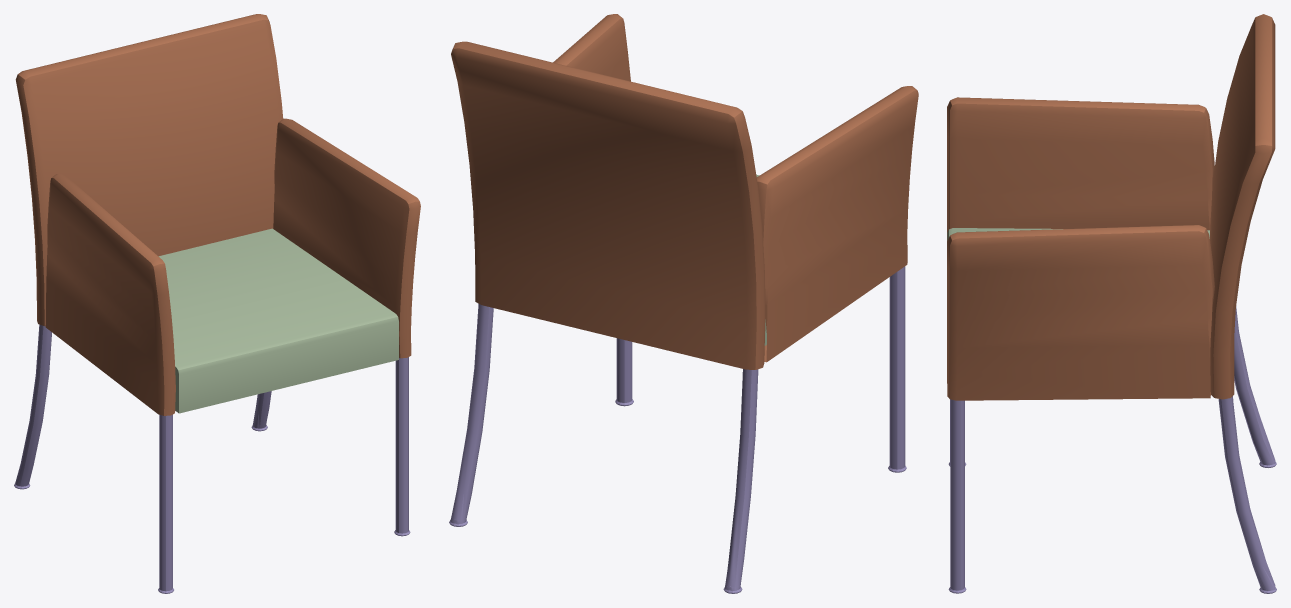
3 views of the same model, side by side, from view 1: azimuth 30°, elevation 25°; view 2: azimuth 150°, elevation 25°; view 3: azimuth 270°, elevation 25° (orthographic). The views are drawn at different scales.
Visible parts, largest first — view 1: __JASON_17; view 2: __JASON_17; view 3: __JASON_17.
Part boxes in pixels (x1,y1,x2,y2): __JASON_17: (14, 14, 420, 593); __JASON_17: (449, 14, 918, 593); __JASON_17: (947, 14, 1276, 593).
Bounding box in the file's own units: 58 × 85 × 56.3.
